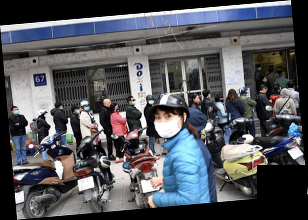with_mask: (153, 110, 183, 141), (148, 97, 155, 106), (115, 105, 121, 113), (131, 98, 137, 106), (196, 95, 201, 104), (14, 108, 20, 115), (84, 104, 90, 111), (263, 77, 269, 83), (75, 107, 80, 114), (257, 66, 263, 71), (221, 96, 225, 103), (279, 88, 283, 94), (44, 112, 47, 119), (209, 92, 212, 99)
without_mask: (105, 100, 113, 108), (263, 87, 269, 95)
